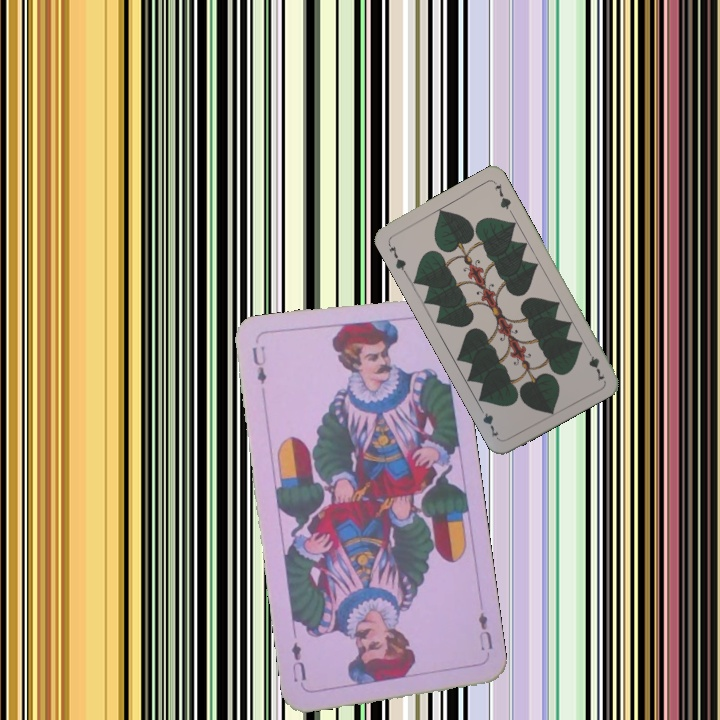EU: (474, 608, 496, 654), (247, 342, 269, 387)
G7: (582, 344, 608, 383), (384, 239, 409, 276)
